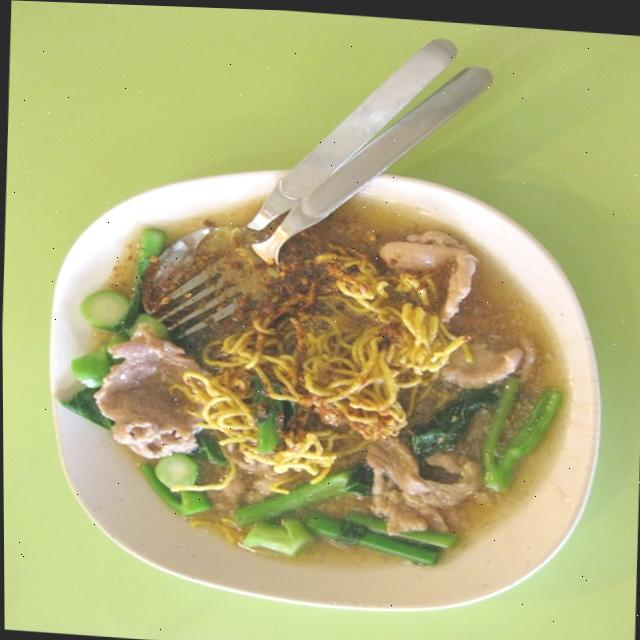面条主食: (65, 175, 547, 552)
